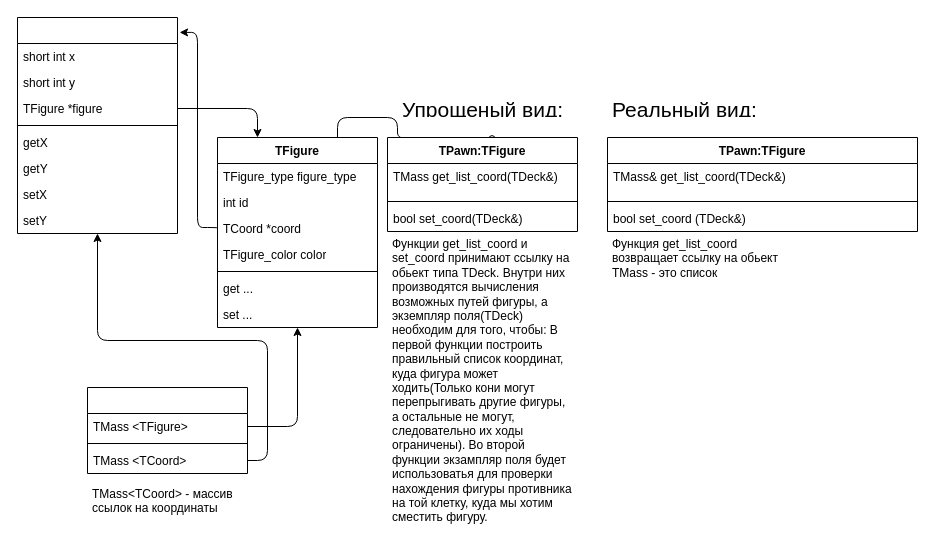
This 935x545 diagram has some shape labels left out. The box of each missing label's shape, as (x1, y1, x2, y2) in pixels:
TCoord: (16, 16, 178, 234)
TDeck: (86, 386, 248, 474)
